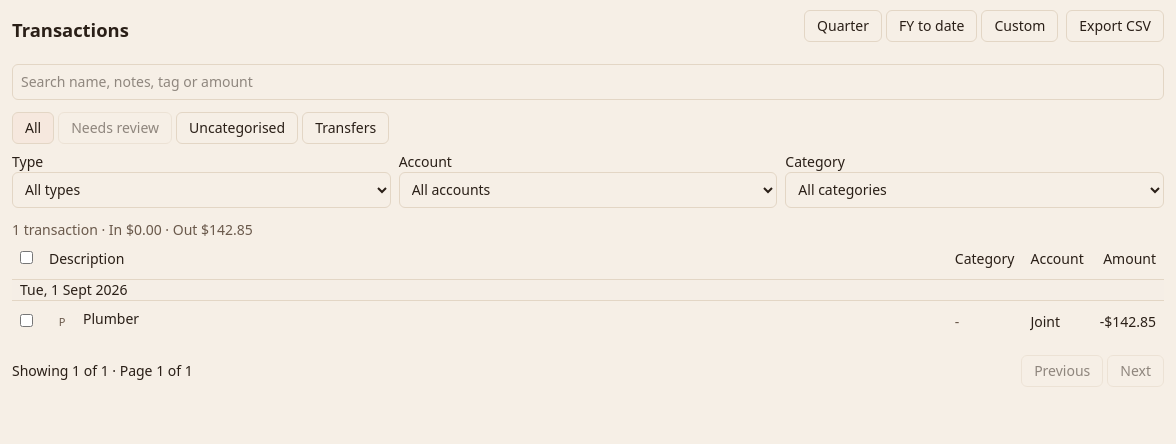
Test case: TransactionList search box › keeps what is typed when the URL echoes an earlier value late
In the search field: coordinates (588, 82) [12,64,1164,100], type "pl"
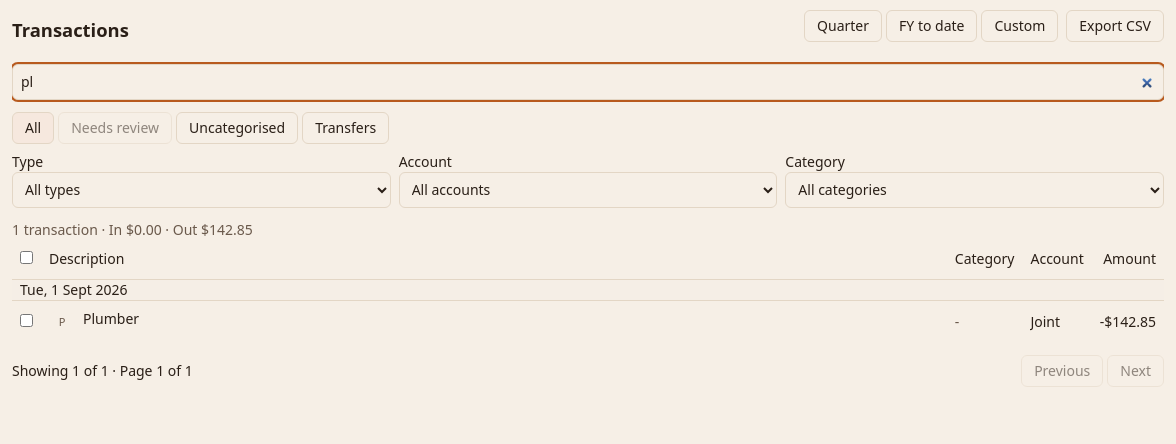
In the search field: coordinates (588, 82) [12,64,1164,100], type "umb"
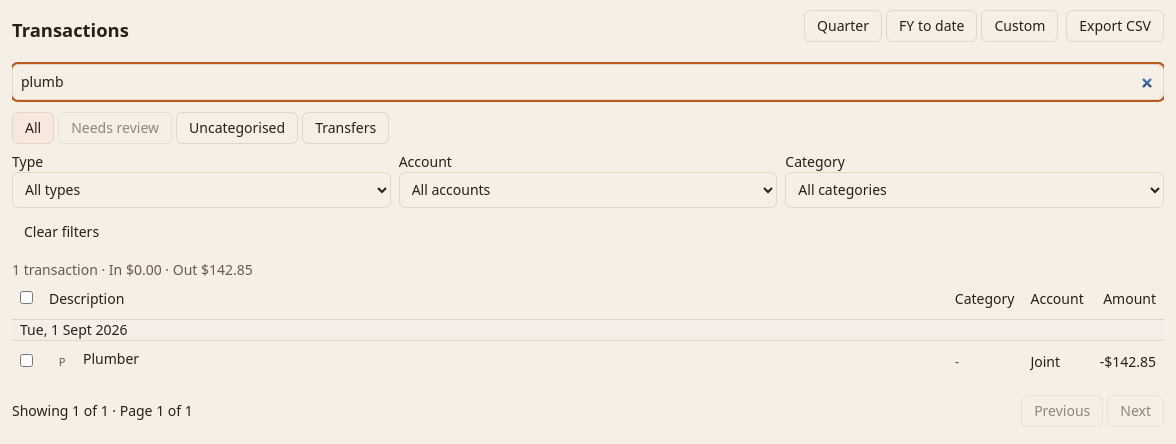
Now the search field holds "plumb", box [12,64,1164,100]
